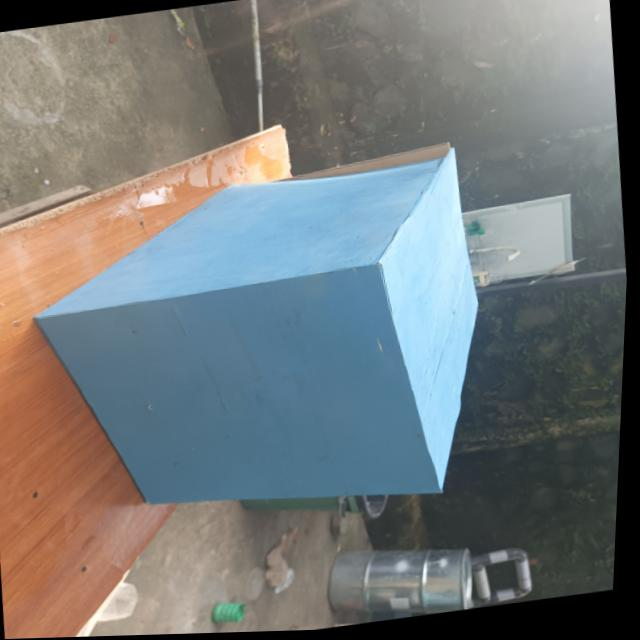blue_box: (11, 135, 514, 548)
